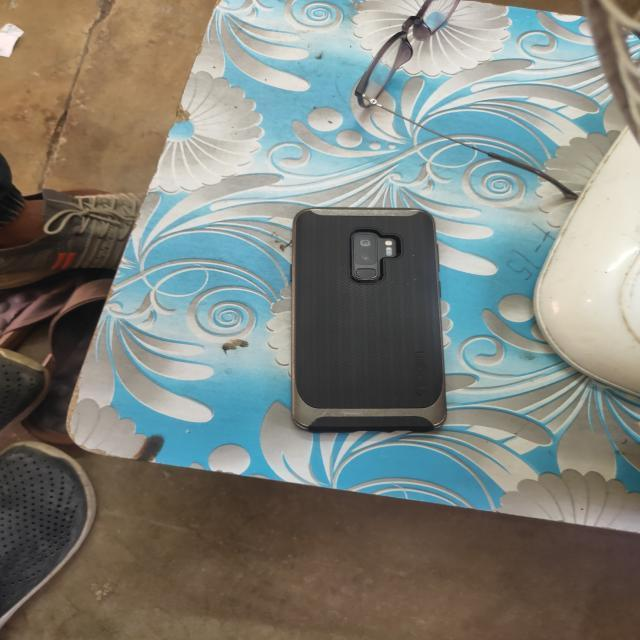Phone: (288, 207, 451, 440)
